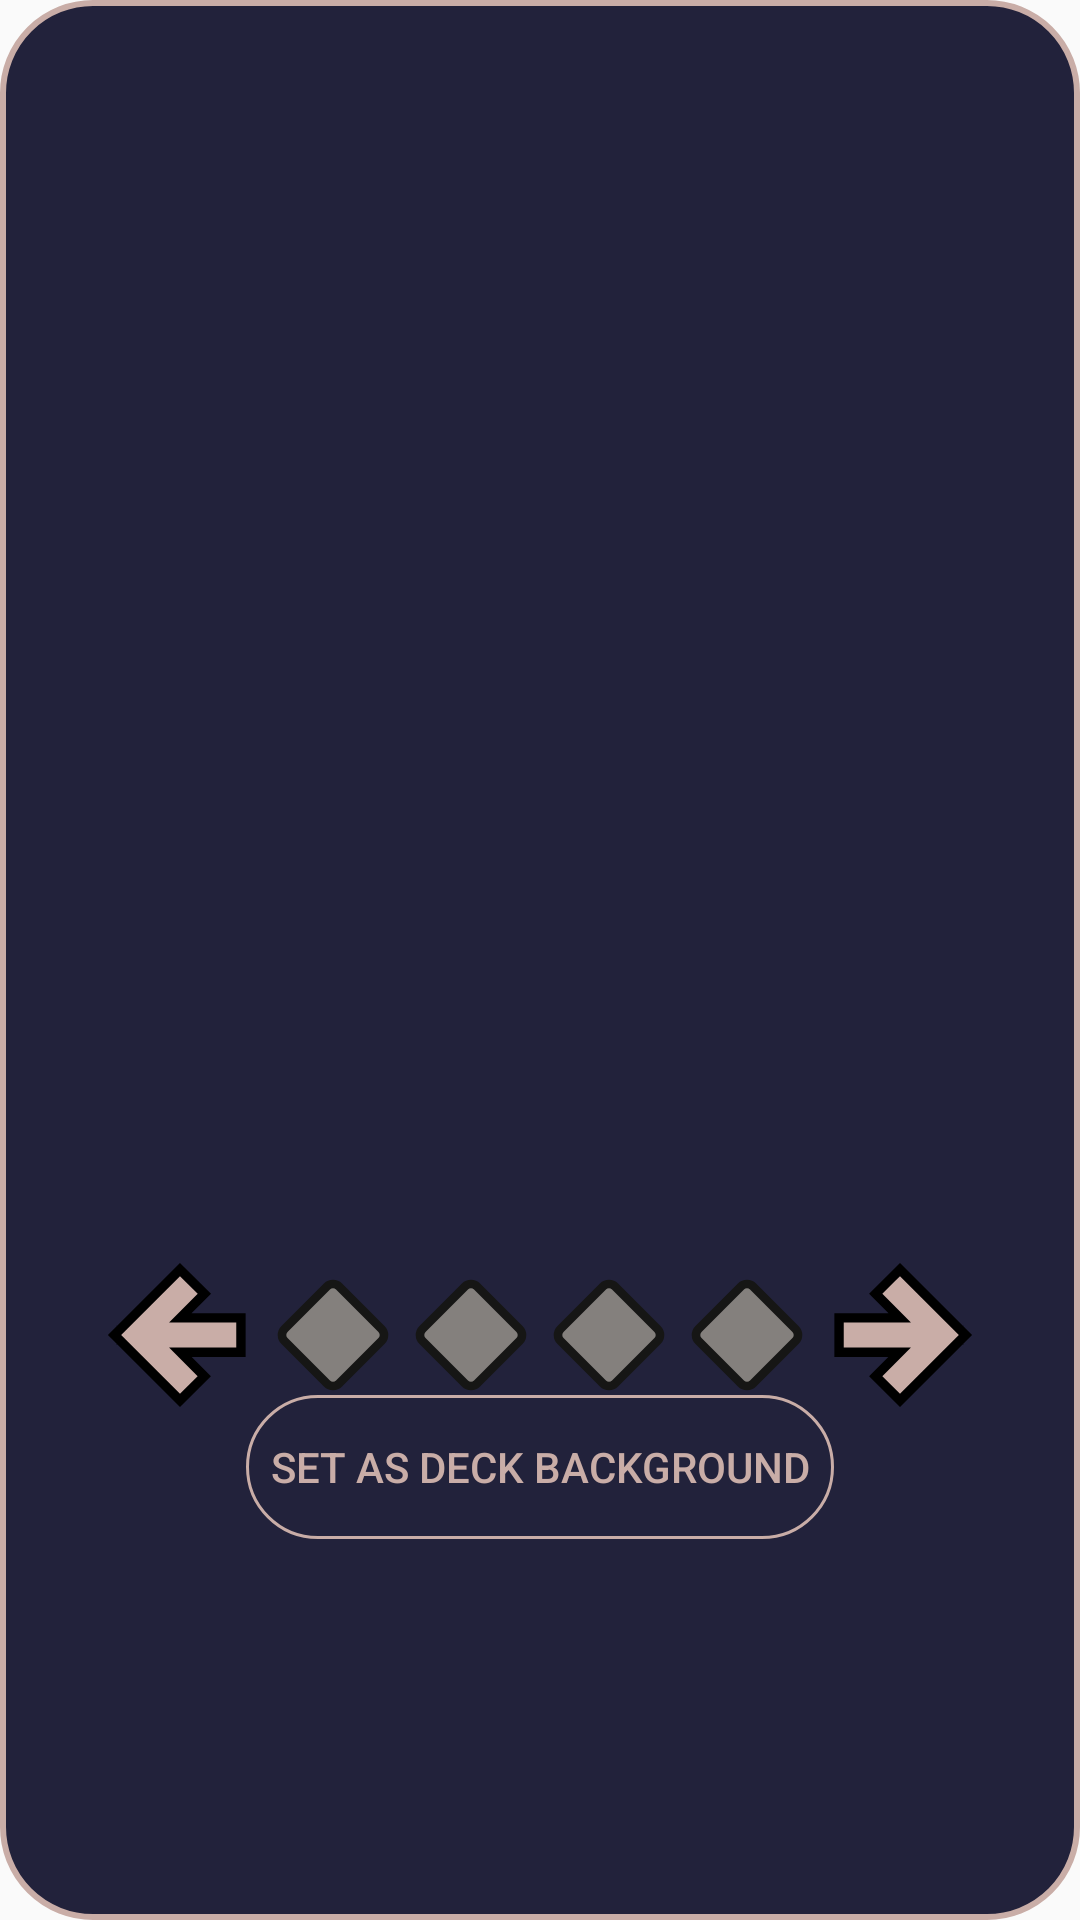

Named icons in this screenshot (1080w x 1920h) and their bounding boxes, (x1, y1, x2, y2):
arrow back: (108, 1263, 246, 1407)
arrow forward: (834, 1263, 972, 1407)
